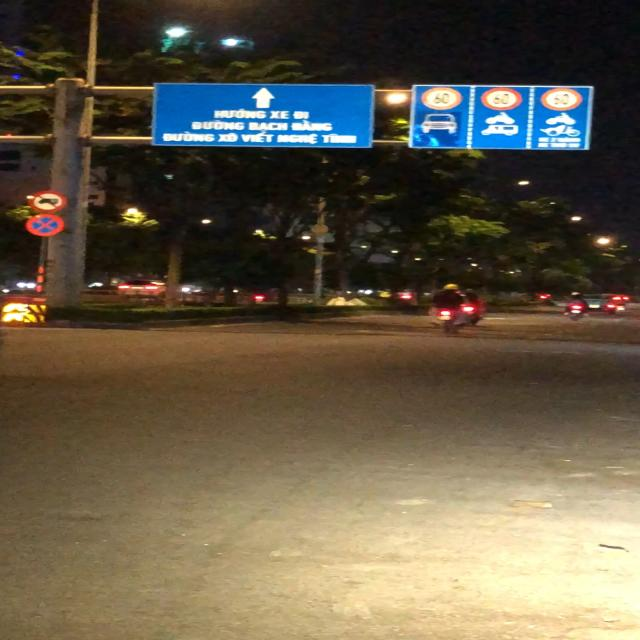Bien bao cam dung xe va do xe: (23, 214, 68, 239)
Bien bao cam xe oto tai: (27, 191, 73, 214)
Bien bao toc do toi da cho phep: (419, 85, 465, 112), (539, 86, 584, 113), (479, 86, 524, 112)
